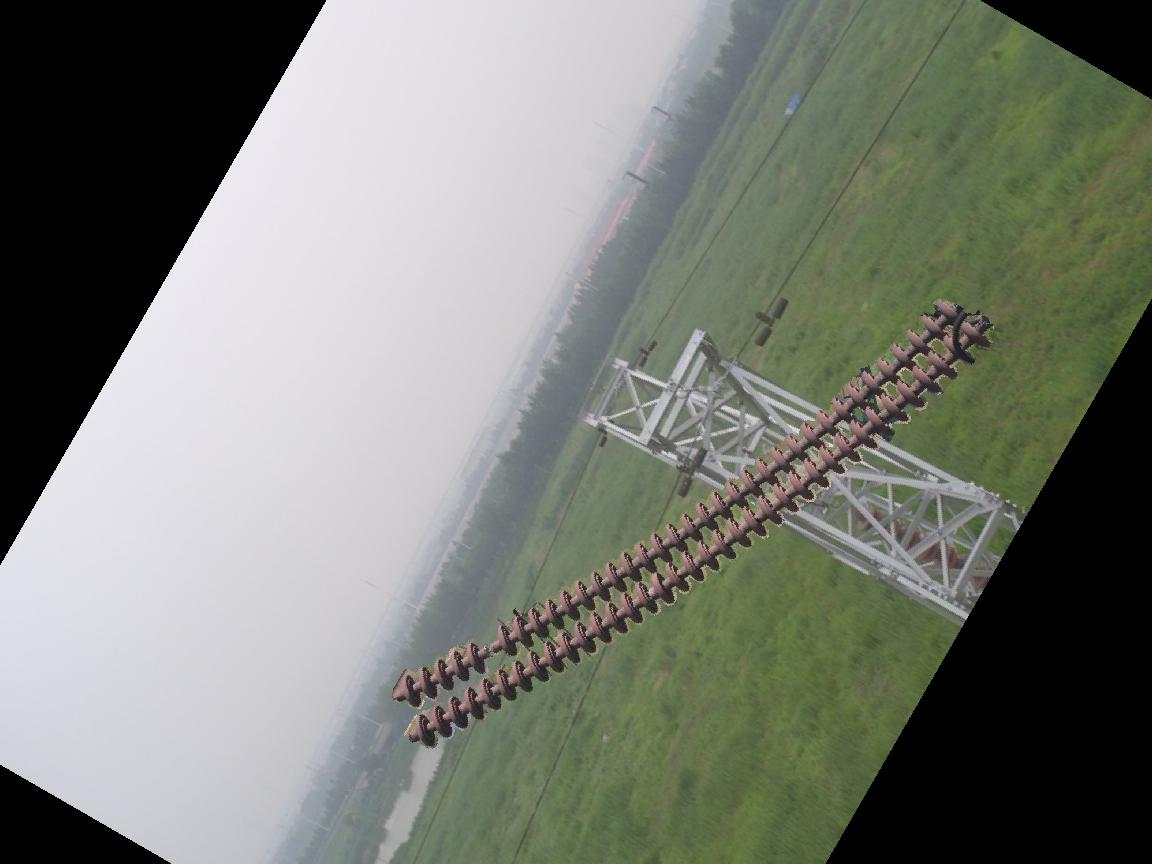insulator: (391, 288, 995, 750), (854, 501, 985, 587)
insulator_stringdrop: (462, 620, 518, 677)
